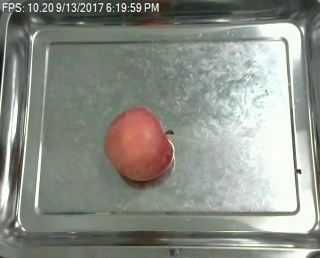Apple: (101, 102, 175, 188)
